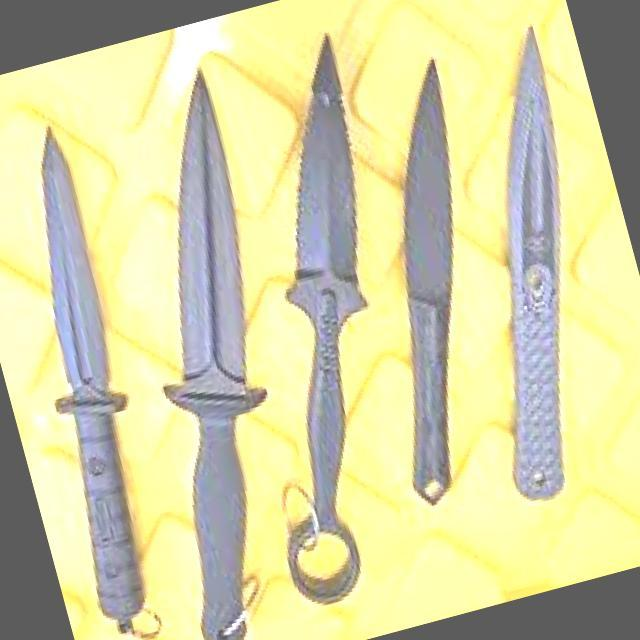Knife: (0, 113, 150, 640), (155, 46, 261, 640), (470, 12, 584, 519), (279, 8, 368, 619), (391, 18, 476, 530)
